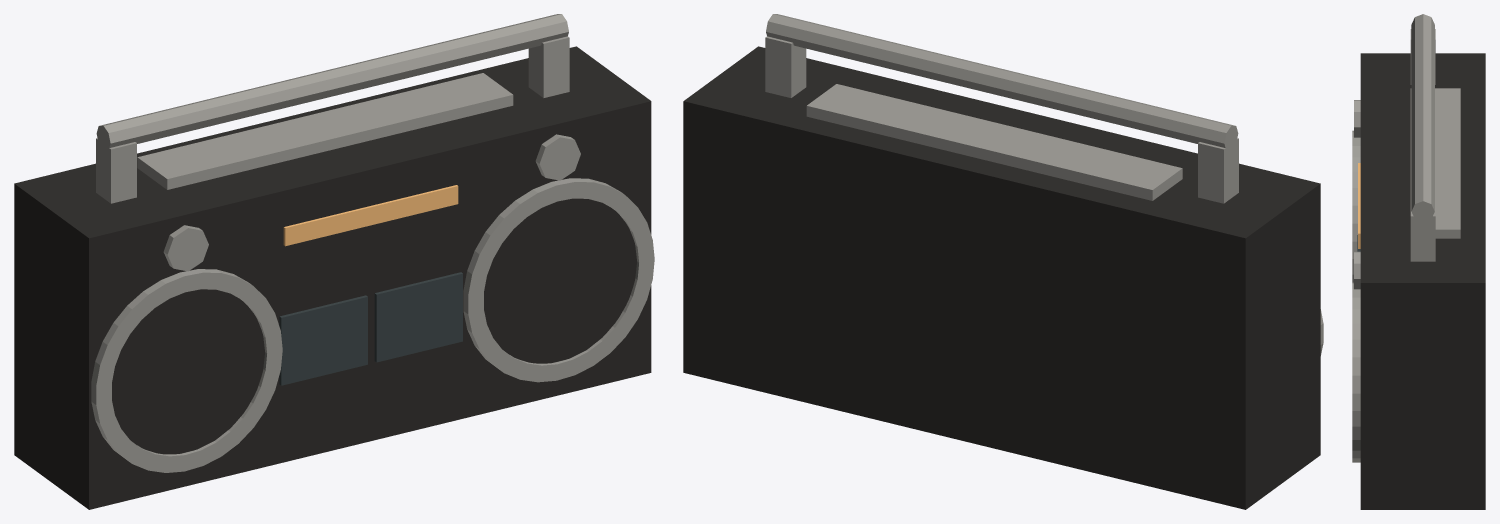
Rendered from boombox-large.glb.
The picture shows the model from 3 angles, left to right: view 1: azimuth 30°, elevation 25°; view 2: azimuth 150°, elevation 25°; view 3: azimuth 270°, elevation 25°; orthographic projection. The views are drawn at different scales.
Parts seen in each view (by area): view 1: plastic-dark, brushed, glass, emissive-warm; view 2: plastic-dark, brushed; view 3: plastic-dark, brushed, emissive-warm.
Part boxes in pixels (x1,y1,x2,y2): plastic-dark: (14,46,651,509); brushed: (91,14,654,472); glass: (279,272,462,385); emissive-warm: (283,185,458,246); plastic-dark: (683,46,1320,509); brushed: (765,14,1323,355); plastic-dark: (1360,53,1485,509); brushed: (1352,14,1460,462); emissive-warm: (1358,163,1360,248).
Bounding box in the file's own units: 0.65 × 0.38 × 0.16.
